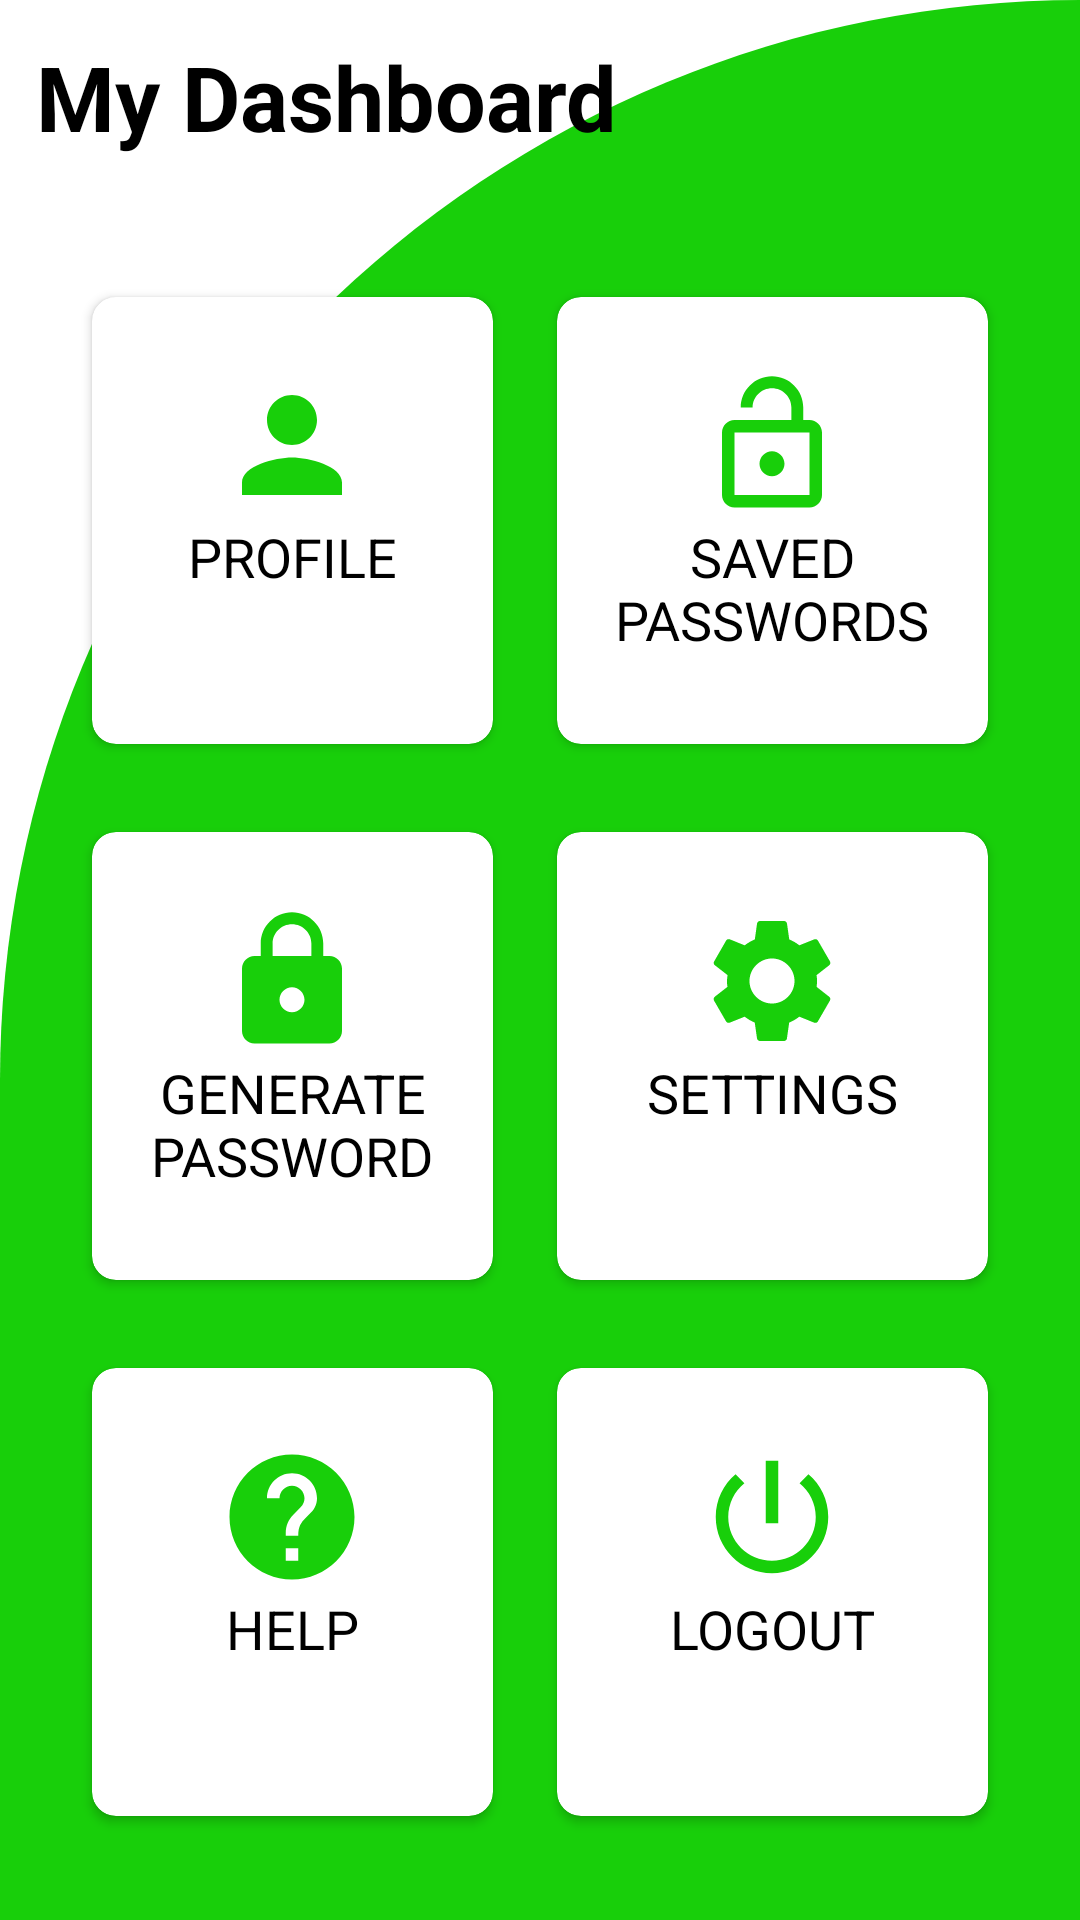

Icon click points for this 1080 × 1920 phone screenshot, format (x,y):
person: (292,445)
